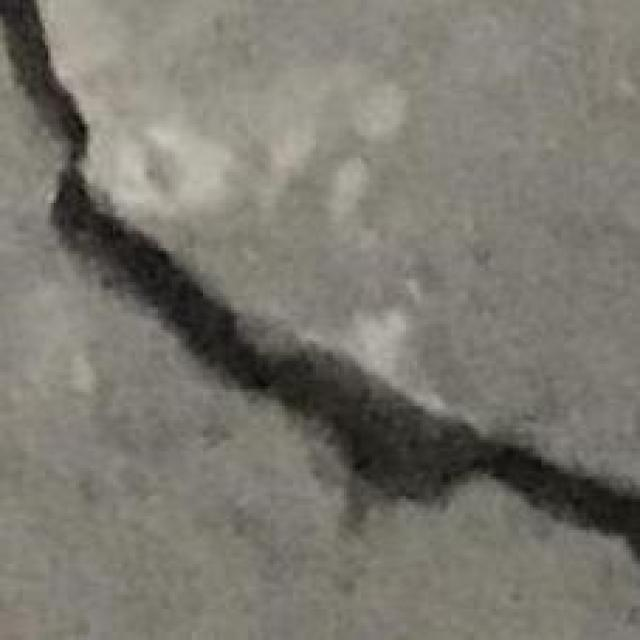Diagonal: (45, 164, 465, 508), (471, 410, 633, 561), (0, 0, 96, 161)
